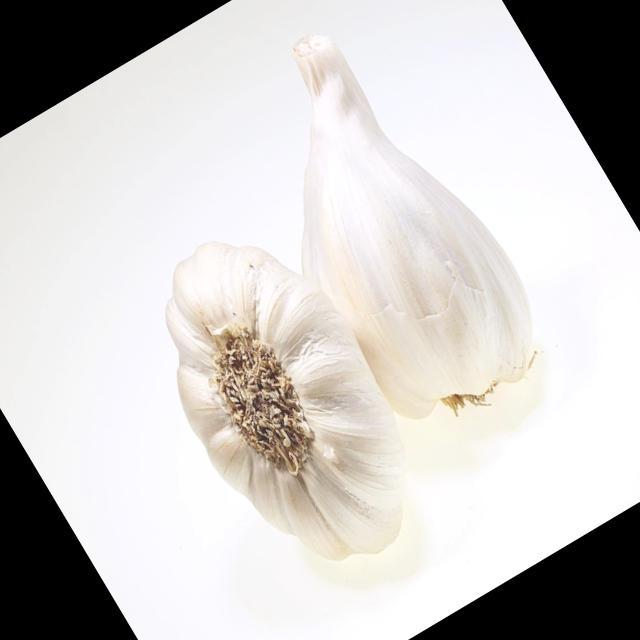garlic: (292, 35, 532, 417), (166, 242, 402, 558)
